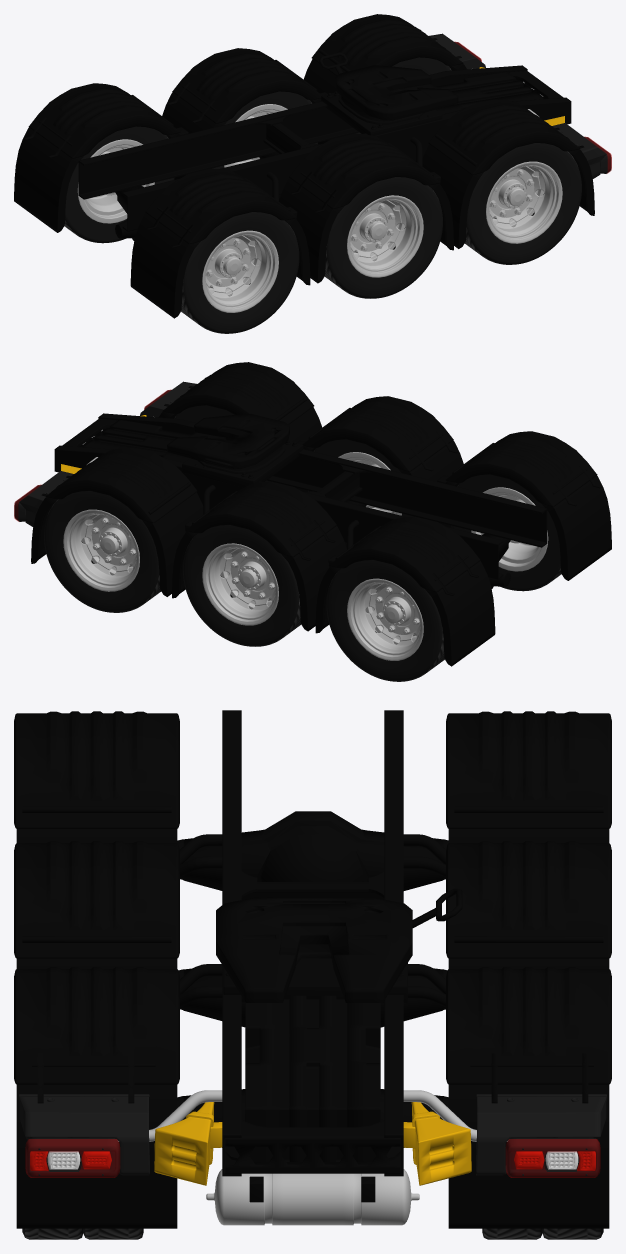
File: lorry.glb
3 views of the same model, one above another, from view 1: azimuth 30°, elevation 25°; view 2: azimuth 150°, elevation 25°; view 3: azimuth 270°, elevation 25° (orthographic). The views are drawn at different scales.
Parts seen in each view (by area): view 1: rear_arches.002, rear_arches.003, polySurface110.002, rear_left_rim_1.002, pCylinder5.004, pCylinder5.003, saddle.001, pCylinder6.002, rear_left_rim_1.003, polySurface108.002, chasis.003; view 2: rear_arches.002, rear_arches.003, polySurface110.002, rear_left_rim_1.002, pCylinder5.004, pCylinder5.003, saddle.001, pCylinder6.002, rear_left_rim_1.003, polySurface108.002, chasis.003; view 3: rear_arches.002, rear_arches.003, polySurface110.002, saddle.001, polySurface108.002, chasis.003, polySurface109.002, wheel_chocks.001, GlassRed.002, chasis.002, pCylinder6.002, polySurface92.002 (+2 smaller).
Boxes of the visible parts, <box> form: rear_arches.002: <box>162,14,594,283</box>; rear_arches.003: <box>14,83,310,318</box>; polySurface110.002: <box>78,65,571,231</box>; rear_left_rim_1.002: <box>224,104,562,277</box>; pCylinder5.004: <box>64,126,299,333</box>; pCylinder5.003: <box>212,91,442,298</box>; saddle.001: <box>319,52,458,135</box>; pCylinder6.002: <box>355,57,581,264</box>; rear_left_rim_1.003: <box>77,139,278,312</box>; polySurface108.002: <box>429,33,611,178</box>; chasis.003: <box>115,185,143,240</box>; rear_arches.002: <box>31,362,463,631</box>; rear_arches.003: <box>315,431,611,666</box>; polySurface110.002: <box>54,413,547,579</box>; rear_left_rim_1.002: <box>63,452,401,625</box>; pCylinder5.004: <box>326,474,561,681</box>; pCylinder5.003: <box>183,439,413,646</box>; saddle.001: <box>167,414,303,487</box>; pCylinder6.002: <box>44,405,270,612</box>; rear_left_rim_1.003: <box>347,487,548,660</box>; polySurface108.002: <box>14,381,196,526</box>; chasis.003: <box>482,533,510,588</box>; rear_arches.002: <box>14,841,611,1228</box>; rear_arches.003: <box>14,711,611,877</box>; polySurface110.002: <box>222,710,403,1202</box>; saddle.001: <box>216,888,462,1002</box>; polySurface108.002: <box>19,1094,606,1177</box>; chasis.003: <box>177,811,448,890</box>; polySurface109.002: <box>206,1169,419,1225</box>; wheel_chocks.001: <box>154,1102,471,1185</box>; GlassRed.002: <box>25,1139,600,1177</box>; chasis.002: <box>177,968,448,1147</box>; pCylinder6.002: <box>22,1228,603,1239</box>; polySurface92.002: <box>117,1090,508,1141</box>.
Bounding box in the file's own units: 4.02 × 1.2 × 2.48.
9 materials, 1 textured.
